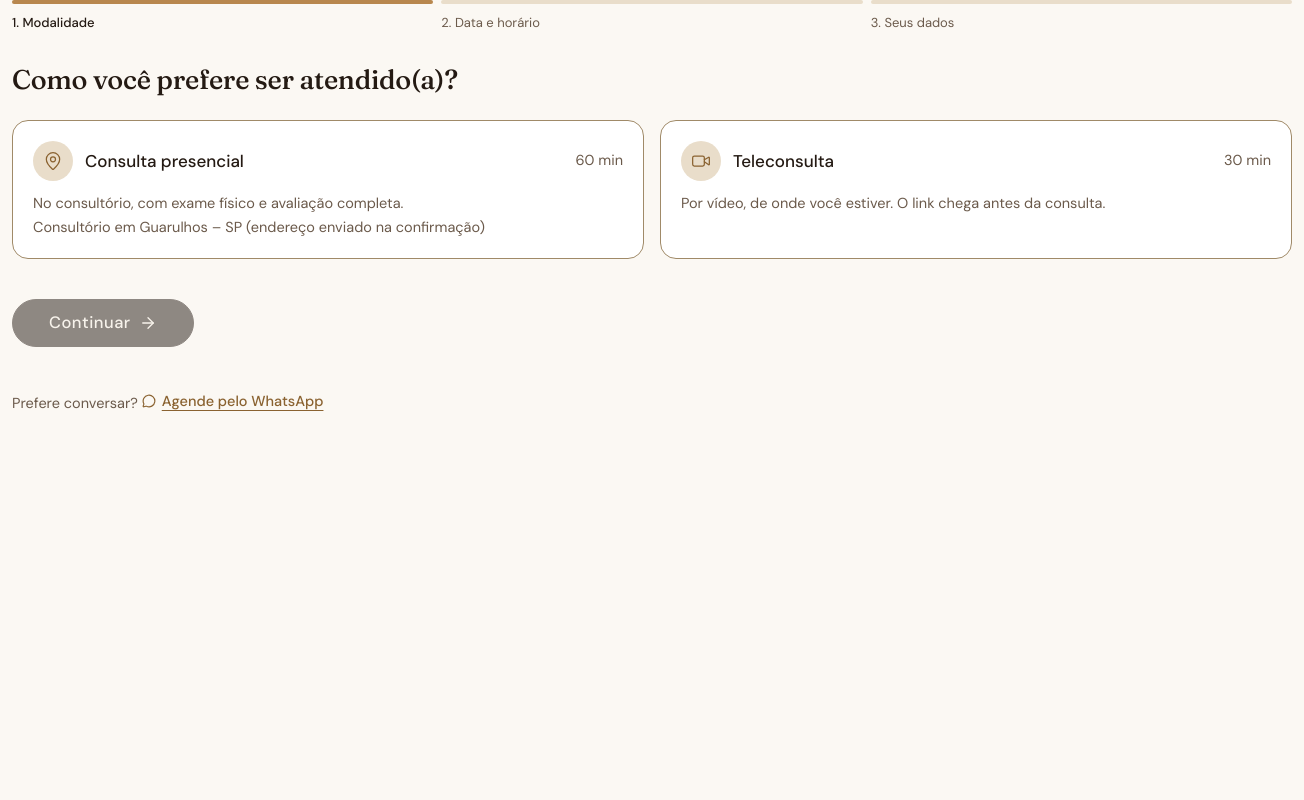
Test: <FluxoAgendamento> › escolher modalidade e continuar: busca a disponibilidade e mostra os horários
Click the radio button labelled "Consulta presencial": point(53, 161) [12,120,644,259]
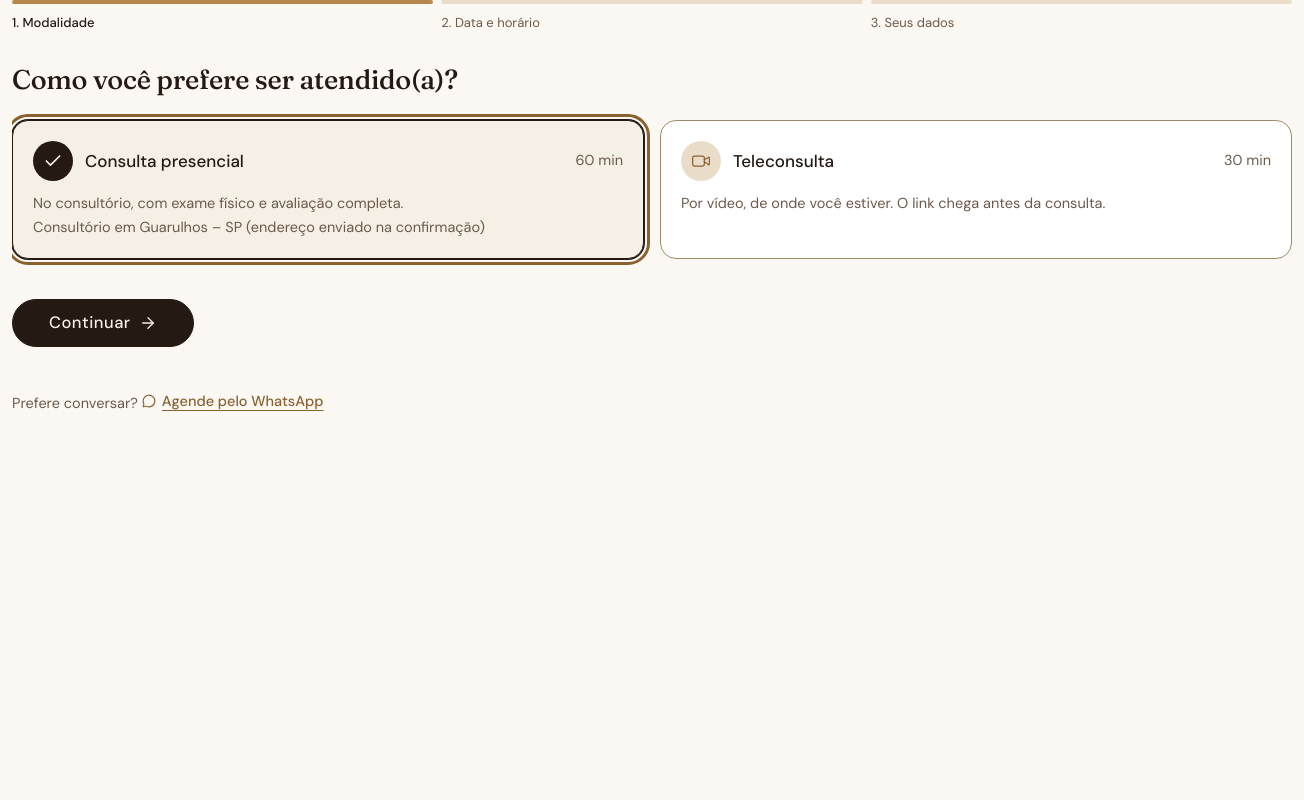
Click the button "Continuar": point(103, 323) [12,299,194,347]
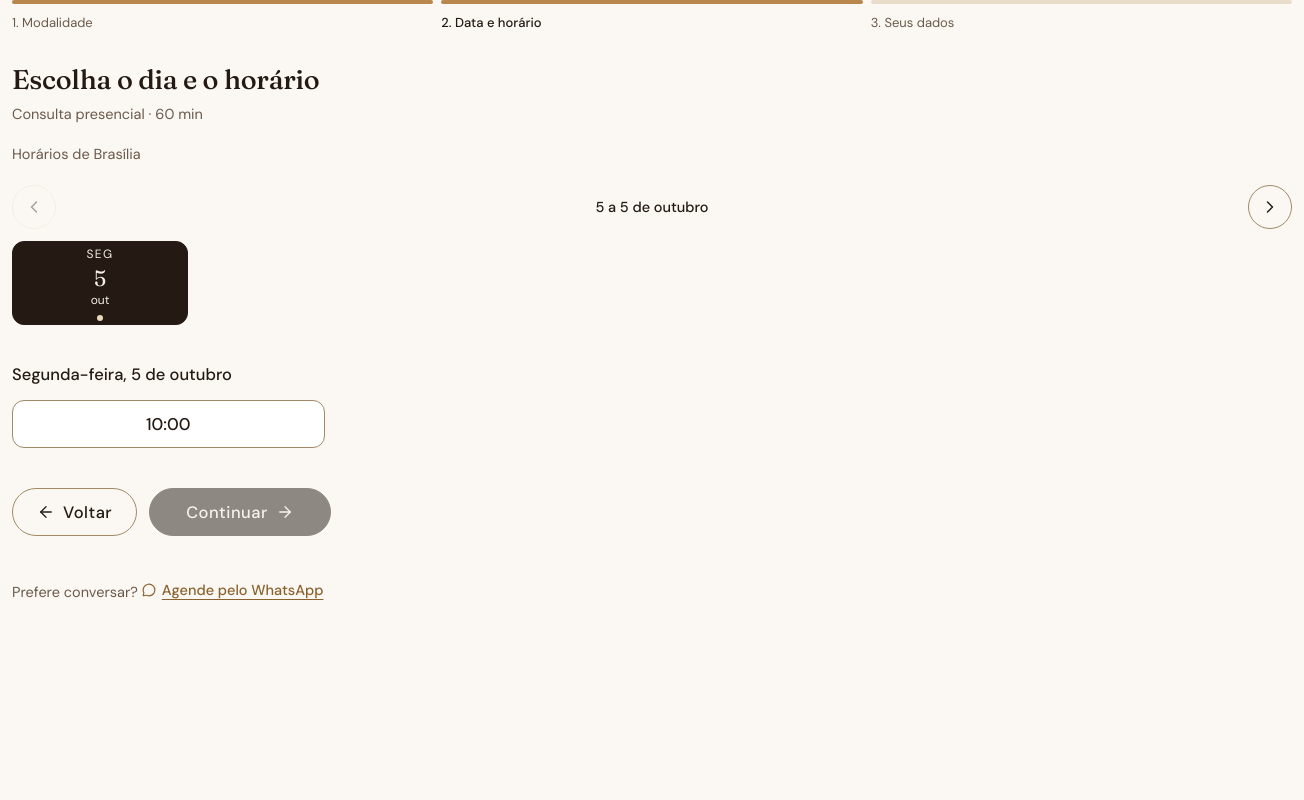
Now the heading "Escolha o dia e o horário" is shown, box [12,63,319,96]
Now the radio button labelled "10:00" is shown, box [12,400,324,448]
Now the text "Consulta presencial · 60 min" is shown, box [12,105,203,123]
